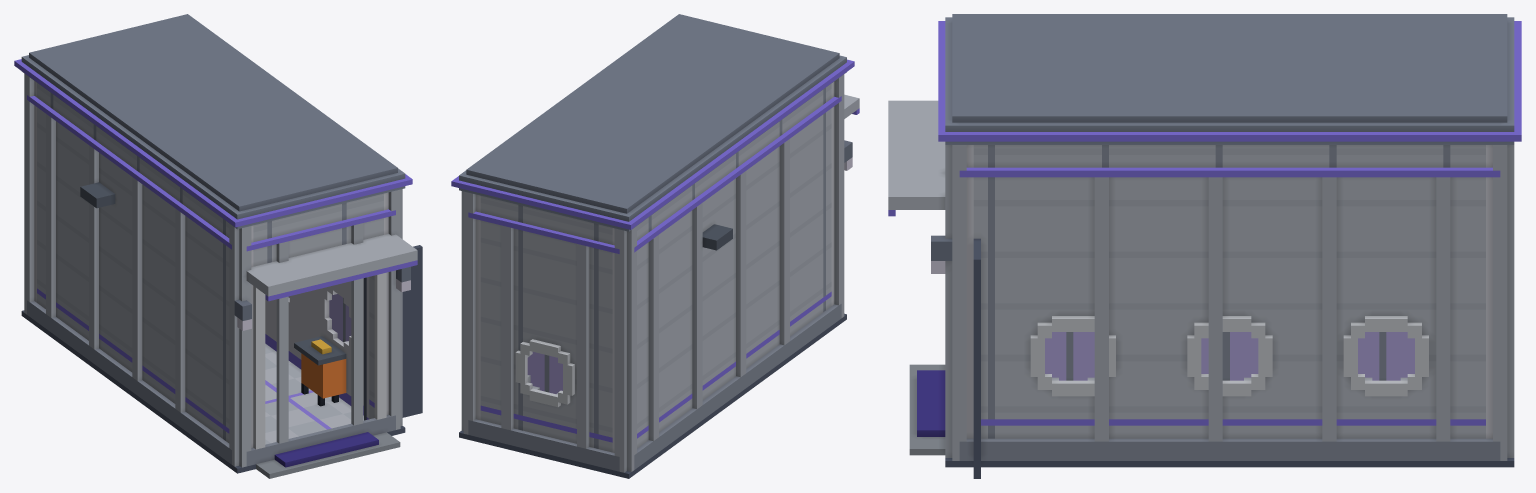
The model's file is factory_e5_l3.glb.
3 views of the same model, side by side, from view 1: azimuth 30°, elevation 25°; view 2: azimuth 150°, elevation 25°; view 3: azimuth 270°, elevation 25° (orthographic). The views are drawn at different scales.
Visible parts, largest first — view 1: CutRoof, CutNX, Base, CutPZ, CutPX, CutNZ; view 2: CutRoof, CutNX, CutNZ, Base, CutPZ; view 3: CutPX, CutRoof, Base, CutPZ, CutNZ.
Boxes of the visible parts, left/top/right/bottom form: CutRoof: left=14, top=14, right=412, bottom=229; CutNX: left=27, top=83, right=231, bottom=413; Base: left=21, top=182, right=422, bottom=478; CutPZ: left=229, top=189, right=422, bottom=423; CutPX: left=265, top=278, right=363, bottom=371; CutNZ: left=24, top=73, right=36, bottom=273; CutRoof: left=451, top=14, right=854, bottom=231; CutNX: left=634, top=83, right=841, bottom=418; CutNZ: left=461, top=191, right=636, bottom=428; Base: left=459, top=224, right=846, bottom=478; CutPZ: left=831, top=74, right=859, bottom=275; CutPX: left=959, top=145, right=1500, bottom=402; CutRoof: left=938, top=14, right=1521, bottom=144; Base: left=909, top=364, right=1514, bottom=478; CutPZ: left=888, top=100, right=980, bottom=420; CutNZ: left=1486, top=145, right=1514, bottom=402.
Size of the model in its own units: 4.5 by 5.4 by 8.9.
